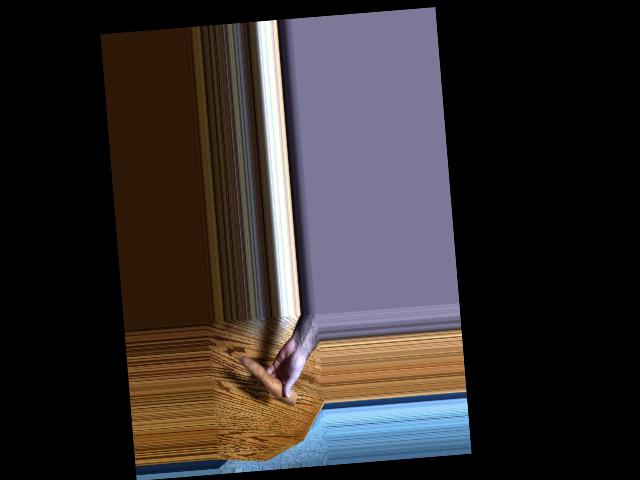sweet_potato: (240, 352, 298, 407)
